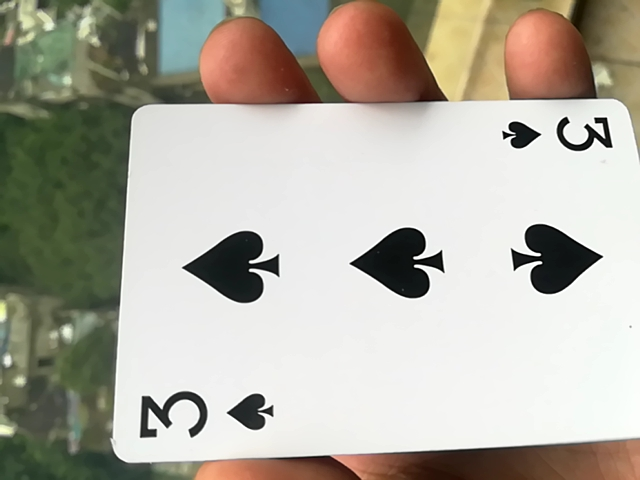ht 3: (93, 114, 637, 475)
